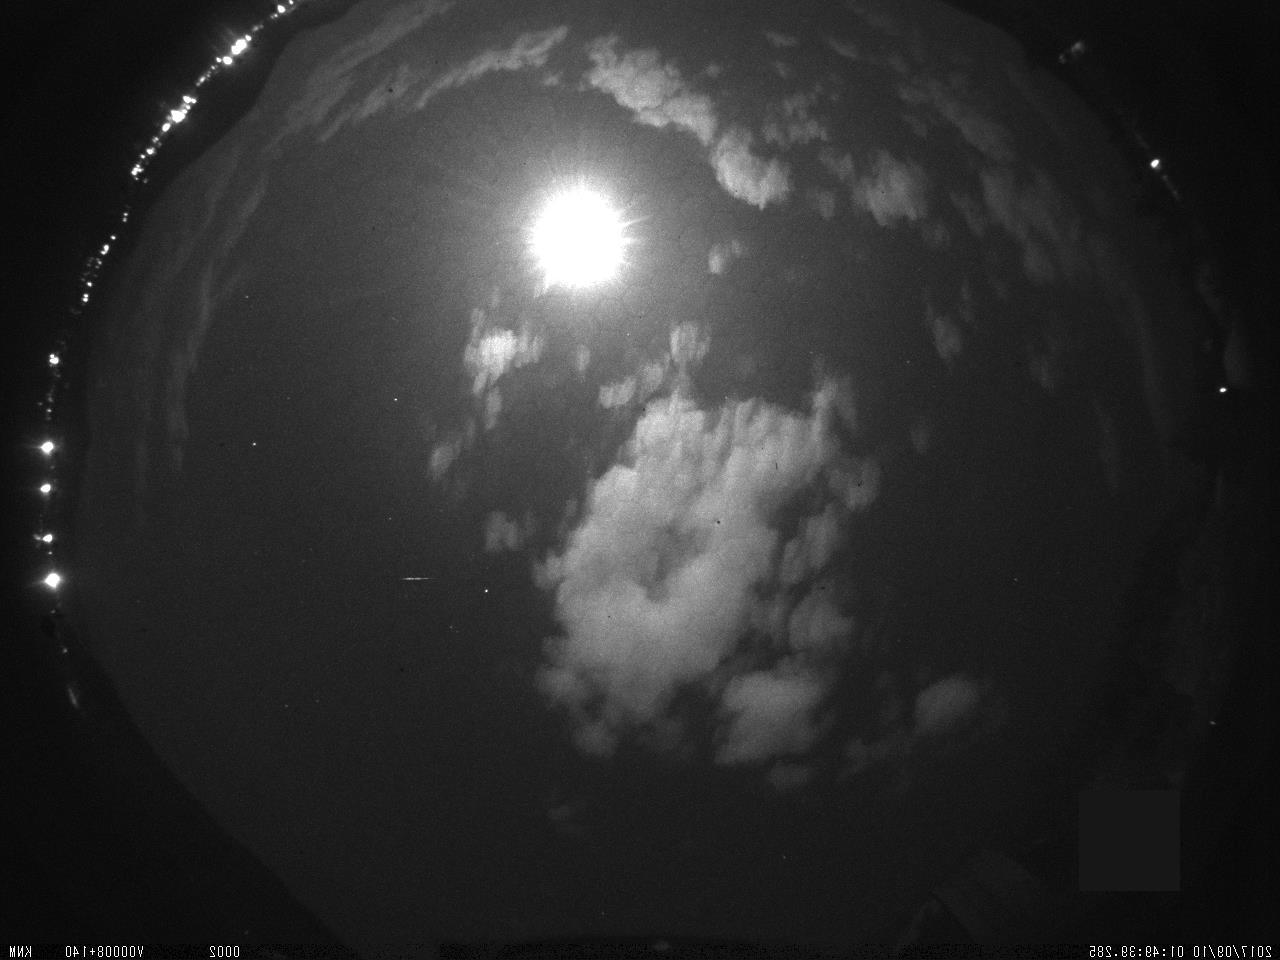meteor: (382, 570, 442, 589)
